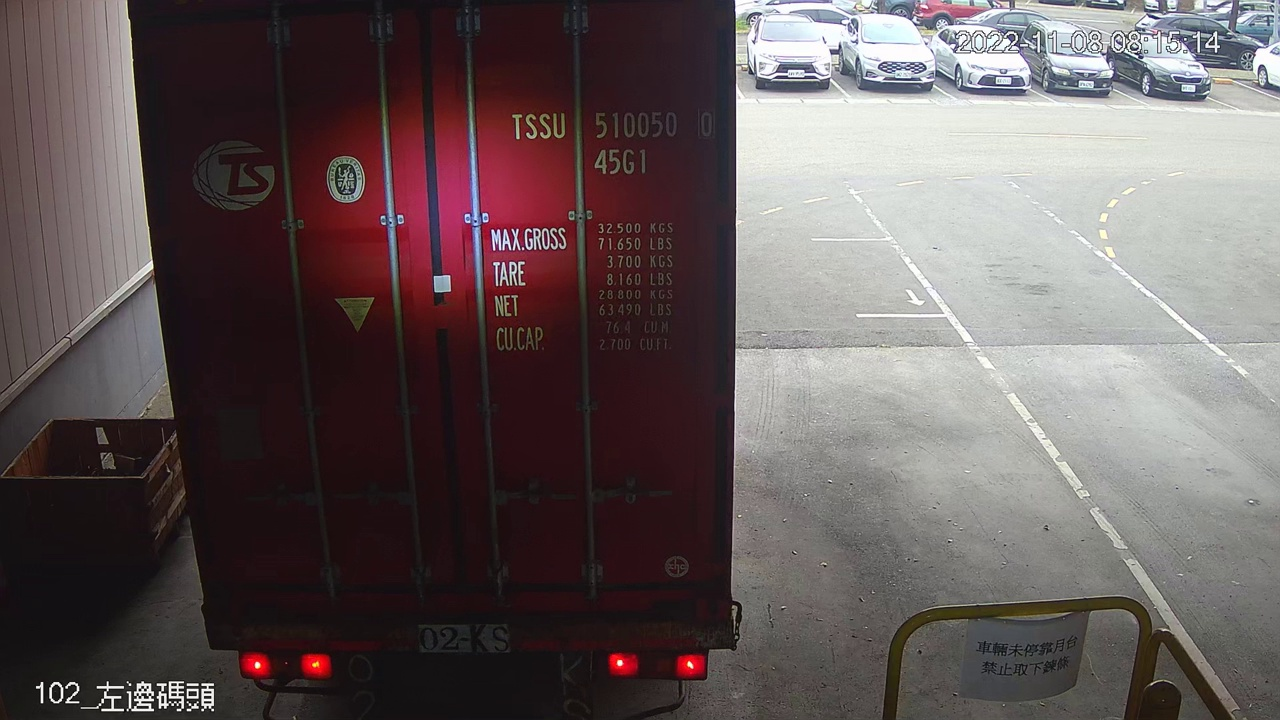container: (504, 102, 723, 186)
